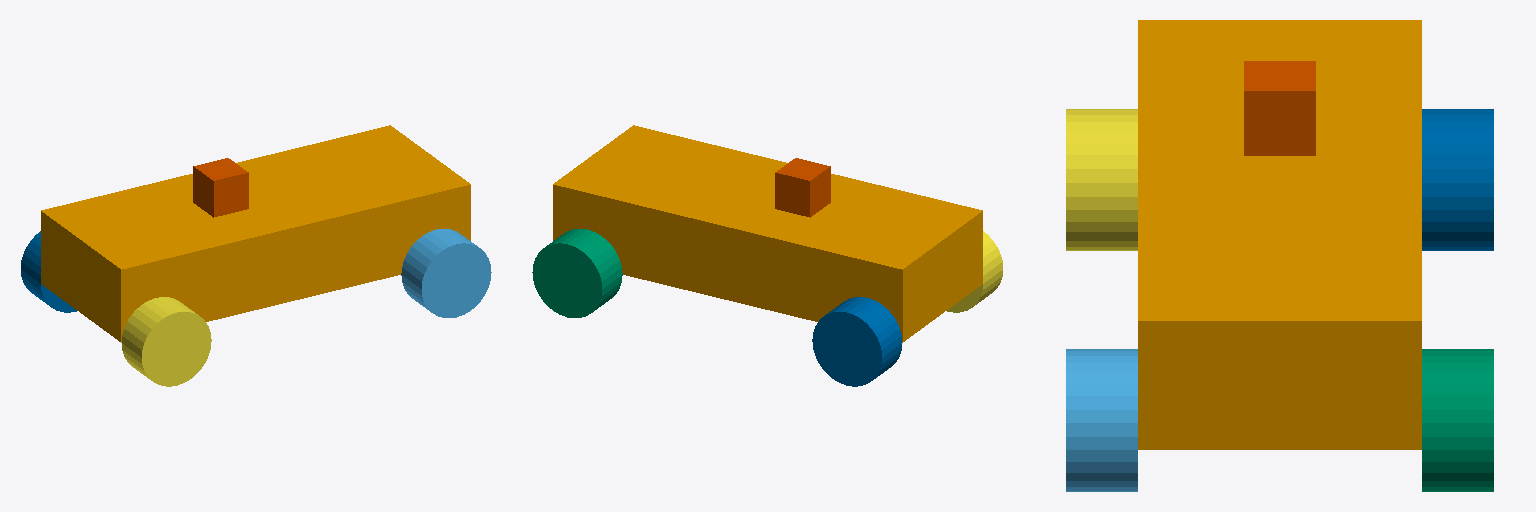
The robot description file, URDF, robot "convoy":
<robot name="convoy">


  <link name="base_link">
    <visual>
      <geometry>
        <box size="5 2 1"/>
      </geometry>
      <origin xyz="0 0 1" rpy="0 0 0"/>
      <!-- <material name="blue"/> --> 
    </visual>
    <collision>
      <geometry>
        <box size="5 2 1"/>
      </geometry>
      <origin xyz="0 0 1" rpy="0 0 0"/>
    </collision>
    <inertial>
    	<mass value="5"/>
    	<inertia ixx="0.4" ixy="0.0" ixz="0.0" iyy="0.4" iyz="0.0" izz="0.2"/>
    </inertial>
  </link>
  
  <gazebo reference="base_link">
    <material>Gazebo/Orange</material>
  </gazebo> 

  <link name="wheel1">
    <visual>
      <geometry>
        <cylinder length="0.5" radius="0.5"/>
      </geometry>
      <origin xyz="0 -0.25 0" rpy="1.57075 0 0"/>
      <!-- <material name="white"/> -->
    </visual>
    <collision>
      <geometry>
        <cylinder length="0.5" radius="0.5"/>
      </geometry>
      <origin xyz="0 -0.25 0" rpy="1.57075 0 0"/>
    </collision>
    <inertial>
    	<mass value="5"/>
    	<inertia ixx="0.4" ixy="0.0" ixz="0.0" iyy="0.4" iyz="0.0" izz="0.2"/>
    </inertial>
  </link>

  <gazebo reference="wheel1">
    <material>Gazebo/Black</material>
  </gazebo>
  
  <link name="wheel2">
    <visual>
      <geometry>
        <cylinder length="0.5" radius="0.5"/>
      </geometry>
      <origin xyz="0 0.25 0" rpy="1.57075 0 0"/>
      <!-- <material name="white"/> -->
    </visual>
    <collision>
      <geometry>
        <cylinder length="0.5" radius="0.5"/>
      </geometry>
      <origin xyz="0 0.25 0" rpy="1.57075 0 0"/>
    </collision>
    <inertial>
    	<mass value="5"/>
    	<inertia ixx="0.4" ixy="0.0" ixz="0.0" iyy="0.4" iyz="0.0" izz="0.2"/>
    </inertial>
  </link>

  <gazebo reference="wheel2">
    <material>Gazebo/Blue</material>
  </gazebo>
  
  <link name="wheel3">
    <visual>
      <geometry>
        <cylinder length="0.5" radius="0.5"/>
      </geometry>
      <origin xyz="0 -0.25 0" rpy="1.57075 0 0"/>
      <!-- <material name="white"/> -->
    </visual>
    <collision>
      <geometry>
        <cylinder length="0.5" radius="0.5"/>
      </geometry>
      <origin xyz="0 -0.25 0" rpy="1.57075 0 0"/>
    </collision>
    <inertial>
    	<mass value="5"/>
    	<inertia ixx="0.4" ixy="0.0" ixz="0.0" iyy="0.4" iyz="0.0" izz="0.2"/>
    </inertial>
  </link>  

  <gazebo reference="wheel3">
    <material>Gazebo/Black</material>
  </gazebo>
  
  <link name="wheel4">
    <visual>
      <geometry>
        <cylinder length="0.5" radius="0.5"/>
      </geometry>
      <origin xyz="0 0.25 0" rpy="1.57075 0 0"/>
      <!-- <material name="white"/> -->
    </visual>
    <collision>
      <geometry>
        <cylinder length="0.5" radius="0.5"/>
      </geometry>
      <origin xyz="0 0.25 0" rpy="1.57075 0 0"/>
    </collision>
    <inertial>
    	<mass value="5"/>
    	<inertia ixx="0.4" ixy="0.0" ixz="0.0" iyy="0.4" iyz="0.0" izz="0.2"/>
    </inertial>
  </link>  
  
  <gazebo reference="wheel4">
    <material>Gazebo/Black</material>
  </gazebo>

  <link name="lidar">
    <visual>
      <geometry>
        <box size="0.5 0.5 0.5"/>
      </geometry>
      <origin xyz="0 0 0" rpy="0 0 0"/>
      <!-- <material name="white"/> -->
    </visual>
    <collision>
      <geometry>
        <cylinder length="0.5" radius="0.5"/>
      </geometry>
      <origin xyz="0 0 0" rpy="0 0 0"/>
    </collision>
    <inertial>
    	<mass value="5"/>
    	<inertia ixx="0.4" ixy="0.0" ixz="0.0" iyy="0.4" iyz="0.0" izz="0.2"/>
    </inertial>
  </link>  

  <gazebo reference="lidar">
    <material>Gazebo/White</material>
  </gazebo>







  <joint name="joint1" type="continuous">
    <parent link="base_link"/>
    <child link="wheel1"/>
    <origin xyz="2 -1 0.5" rpy="0 0 0" />
    <axis xyz="0 1 0" />
  </joint>

  <joint name="joint2" type="continuous">
    <parent link="base_link"/>
    <child link="wheel2"/>
    <origin xyz="2 1 0.5" rpy="0 0 0" />
    <axis xyz="0 1 0" />
  </joint>

  <joint name="joint3" type="continuous">
    <parent link="base_link"/>
    <child link="wheel3"/>
    <origin xyz="-2 -1 0.5" rpy="0 0 0" />
    <axis xyz="0 1 0" />
  </joint>
  
   <joint name="joint4" type="continuous">
    <parent link="base_link"/>
    <child link="wheel4"/>
    <origin xyz="-2 1 0.5" rpy="0 0 0" />
    <axis xyz="0 1 0" />
  </joint>
  
  <joint name="joint5" type="fixed">
    <parent link="base_link"/>
    <child link="lidar"/>
    <origin xyz="-0.5 0 1.75" rpy="0 0 0" />
    <axis xyz="0 0 0" />
  </joint>
  
  
  
  <gazebo>
    <plugin name="gazebo_ros_control" filename="libgazebo_ros_control.so">
      <robotNamespace>/</robotNamespace>
    </plugin>
  </gazebo>
  
  
  
        <!-- This block provides the simulator (Gazebo) with information on a few
         additional physical properties. See http://gazebosim.org/tutorials/
         ?tut=ros_urdf for more -->
    <gazebo reference="wheel1">
      <mu1 value="200.0"/>
      <mu2 value="100.0"/>
      <kp value="10000000.0" />
      <kd value="1.0" />
      <material>Gazebo/Grey</material>
    </gazebo>
    <gazebo reference="wheel2">
      <mu1 value="200.0"/>
      <mu2 value="100.0"/>
      <kp value="10000000.0" />
      <kd value="1.0" />
      <material>Gazebo/Grey</material>
    </gazebo>
    <gazebo reference="wheel3">
      <mu1 value="200.0"/>
      <mu2 value="100.0"/>
      <kp value="10000000.0" />
      <kd value="1.0" />
      <material>Gazebo/Grey</material>
    </gazebo>
    <gazebo reference="wheel4">
      <mu1 value="200.0"/>
      <mu2 value="100.0"/>
      <kp value="10000000.0" />
      <kd value="1.0" />
      <material>Gazebo/Grey</material>
    </gazebo>

       <!-- This block connects the wheel joint to an actuator (motor), which
        informs both simulation and visualization of the robot -->
    <transmission name="wheel1_trans">
      <type>transmission_interface/SimpleTransmission</type>
      <actuator name="wheel1_motor">
        <mechanicalReduction>1</mechanicalReduction>
      </actuator>
      <joint name="joint1">
        <hardwareInterface>hardware_interface/VelocityJointInterface</hardwareInterface>
      </joint>
    </transmission>
  <transmission name="wheel2_trans">
      <type>transmission_interface/SimpleTransmission</type>
      <actuator name="wheel2_motor">
        <mechanicalReduction>1</mechanicalReduction>
      </actuator>
      <joint name="joint2">
        <hardwareInterface>hardware_interface/VelocityJointInterface</hardwareInterface>
      </joint>
    </transmission>
    <transmission name="wheel3_trans">
      <type>transmission_interface/SimpleTransmission</type>
      <actuator name="wheel3_motor">
        <mechanicalReduction>1</mechanicalReduction>
      </actuator>
      <joint name="joint3">
        <hardwareInterface>hardware_interface/VelocityJointInterface</hardwareInterface>
      </joint>
    </transmission>
    <transmission name="wheel4_trans">
      <type>transmission_interface/SimpleTransmission</type>
      <actuator name="whee4l_motor">
        <mechanicalReduction>1</mechanicalReduction>
      </actuator>
      <joint name="joint4">
        <hardwareInterface>hardware_interface/VelocityJointInterface</hardwareInterface>
      </joint>
    </transmission>
  
</robot>

--- Render facts (derived) ---
The picture shows the robot from 3 angles, left to right: view 1: azimuth 30°, elevation 25°; view 2: azimuth 150°, elevation 25°; view 3: azimuth 270°, elevation 25°; orthographic projection.
Robot: convoy — 6 links, 5 joints (4 continuous, 1 fixed); root link base_link; default pose: every joint at zero.
Links seen in each view (by area): view 1: base_link, wheel3, wheel1, lidar, wheel4; view 2: base_link, wheel4, wheel2, lidar, wheel3; view 3: base_link, wheel1, wheel2, wheel3, wheel4, lidar.
Link boxes in pixels (box(x1,y1,x2,y2)): base_link: box(41, 125, 470, 342); wheel3: box(122, 297, 211, 386); wheel1: box(401, 229, 491, 317); lidar: box(193, 158, 248, 217); wheel4: box(21, 231, 76, 312); base_link: box(553, 125, 982, 342); wheel4: box(812, 297, 901, 386); wheel2: box(532, 229, 622, 317); lidar: box(775, 158, 830, 217); wheel3: box(947, 231, 1002, 312); base_link: box(1138, 20, 1421, 449); wheel1: box(1066, 349, 1137, 491); wheel2: box(1422, 349, 1493, 491); wheel3: box(1066, 109, 1137, 250); wheel4: box(1422, 109, 1493, 250); lidar: box(1244, 61, 1315, 155).
Size in the robot's own frame: 5 by 3 by 2 metres.
Geometry: primitives only (box / cylinder / sphere), no mesh files.